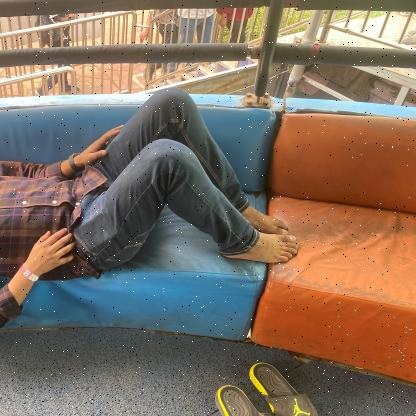hand: (9, 225, 95, 300), (28, 121, 129, 175)
leg: (167, 154, 318, 283), (185, 220, 313, 274), (214, 174, 304, 235)
